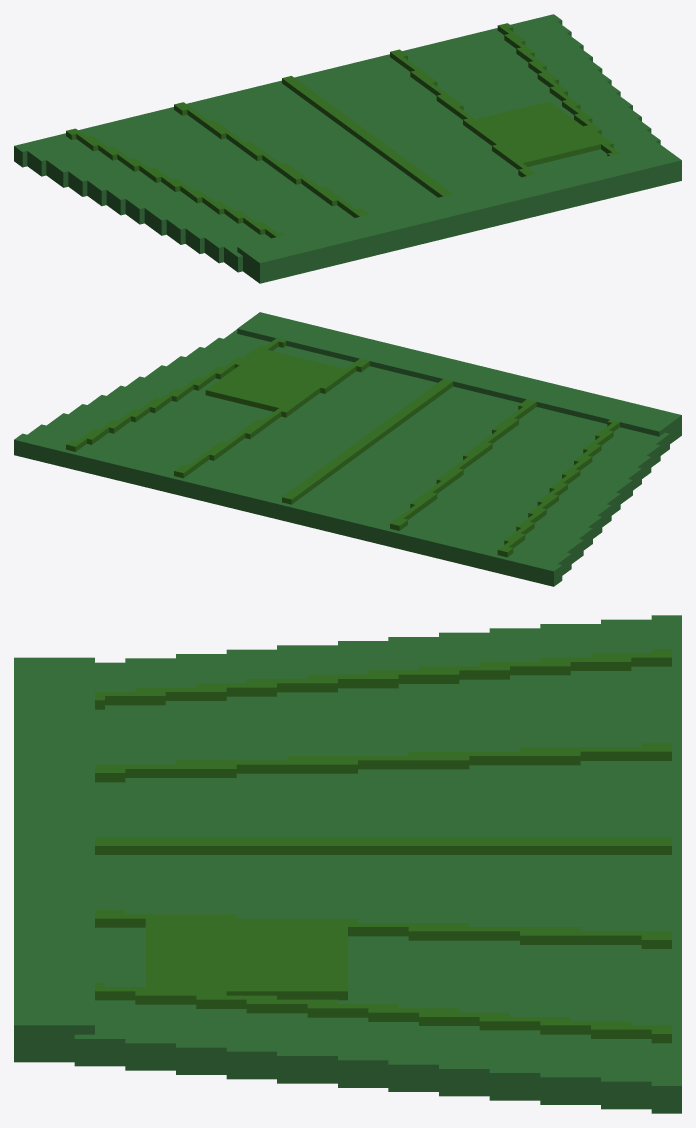
File: skirt.glb
The picture shows the model from 3 angles, top to bottom: view 1: azimuth 30°, elevation 25°; view 2: azimuth 150°, elevation 25°; view 3: azimuth 270°, elevation 25°; orthographic projection. The views are drawn at different scales.
Parts seen in each view (by area): view 1: skirt:compound; view 2: skirt:compound; view 3: skirt:compound.
Part boxes in pixels (x1=…): skirt:compound: x1=14, y1=14, x2=681, y2=283; skirt:compound: x1=14, y1=312, x2=681, y2=586; skirt:compound: x1=14, y1=615, x2=681, y2=1113.
Bounding box in the file's own units: 0.44 × 0.016 × 0.264.
